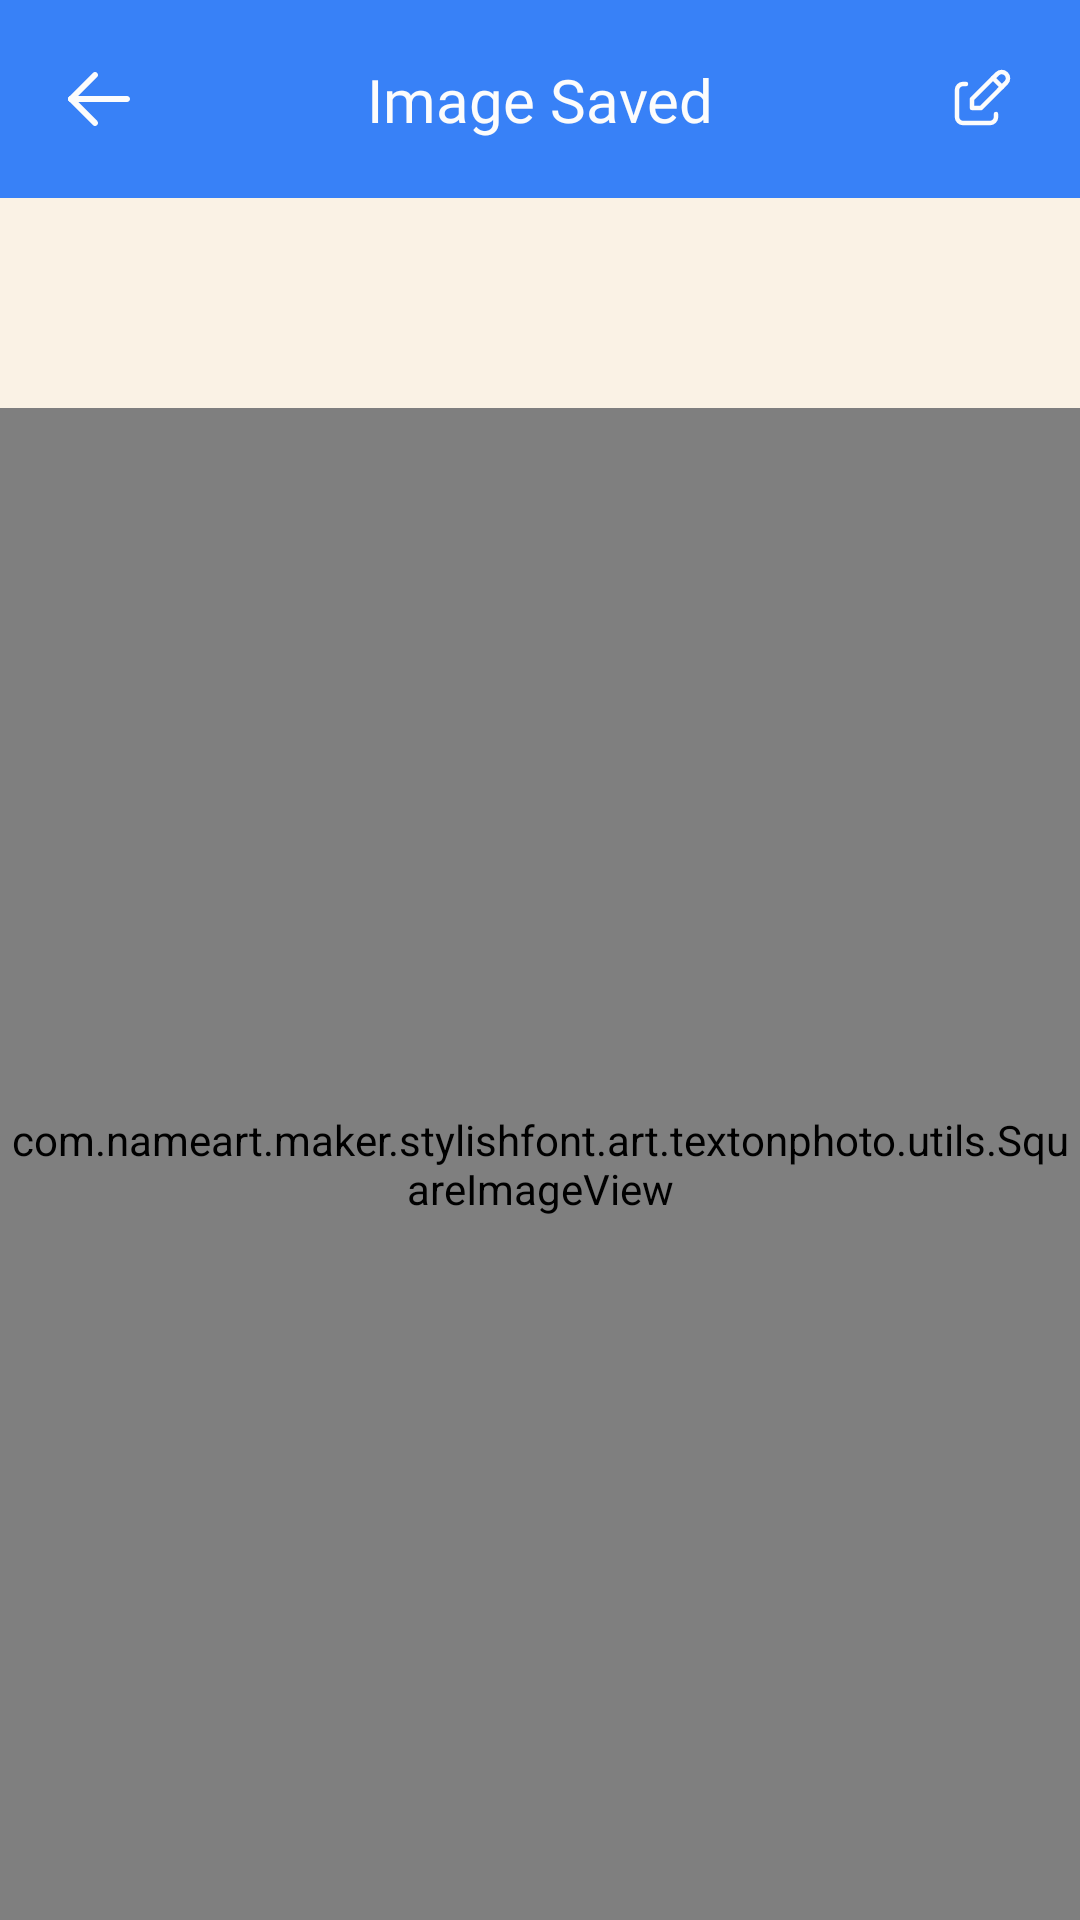

Screen size 1080px×1920px. Icon name, then its box in pixels as (x1, y1, x2, y2):
back: (68, 72, 130, 126)
